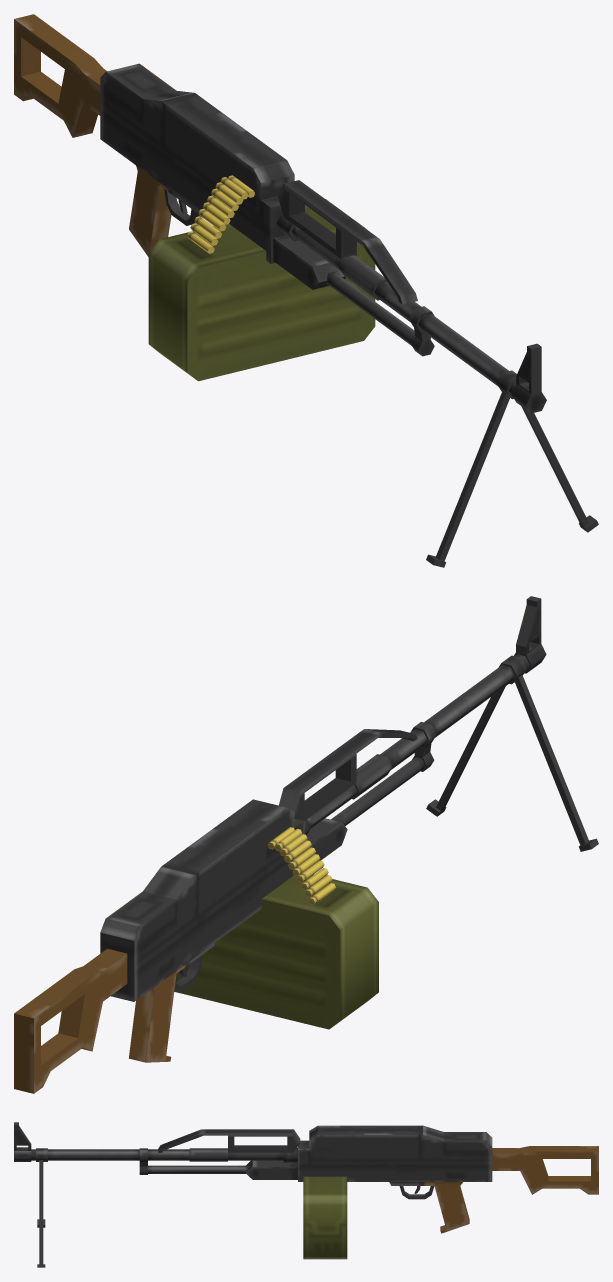
Rendered from PKP.FBX.
The picture shows the model from 3 angles, top to bottom: view 1: azimuth 30°, elevation 25°; view 2: azimuth 150°, elevation 25°; view 3: azimuth 270°, elevation 25°; orthographic projection. The views are drawn at different scales.
Parts seen in each view (by area): view 1: PKP; view 2: PKP; view 3: PKP.
Part boxes in pixels (x1,y1,x2,y2): PKP: [14, 14, 598, 567]; PKP: [14, 596, 598, 1093]; PKP: [14, 1122, 598, 1267].
Size of the model in its own units: 23.57 by 111 by 26.
